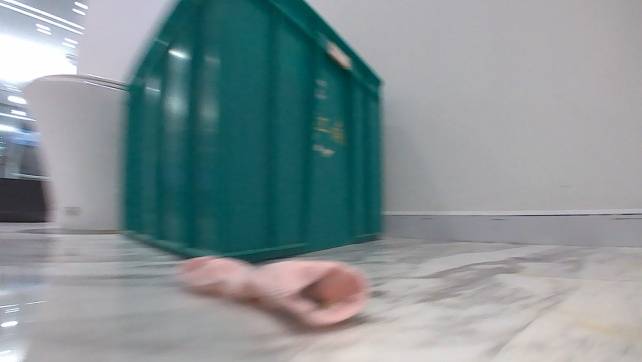socks: (173, 252, 373, 329)
toilet: (18, 72, 128, 233)
